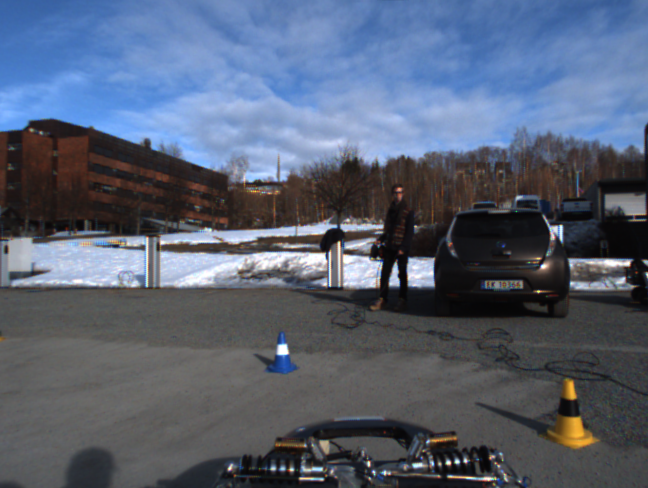cone-small-blue: (263, 329, 300, 374)
cone-small-yellow: (540, 378, 600, 449)
